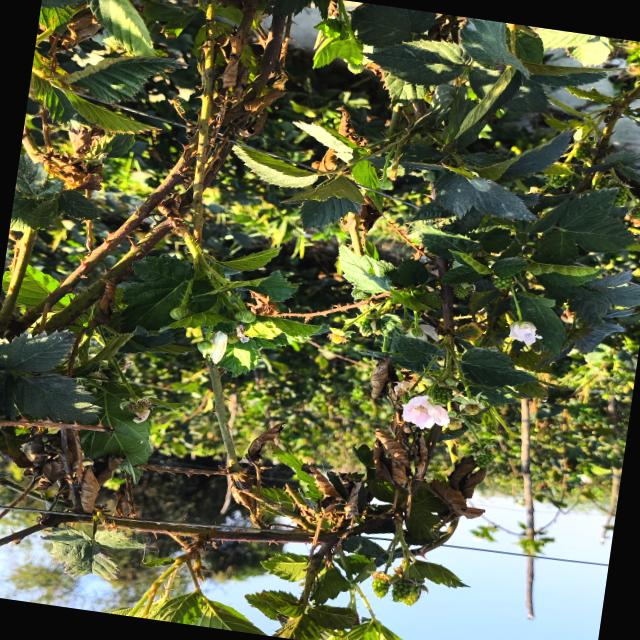boton: (170, 306, 194, 321), (235, 310, 256, 325), (198, 340, 214, 357)
flor: (403, 396, 450, 429), (509, 320, 542, 346)
